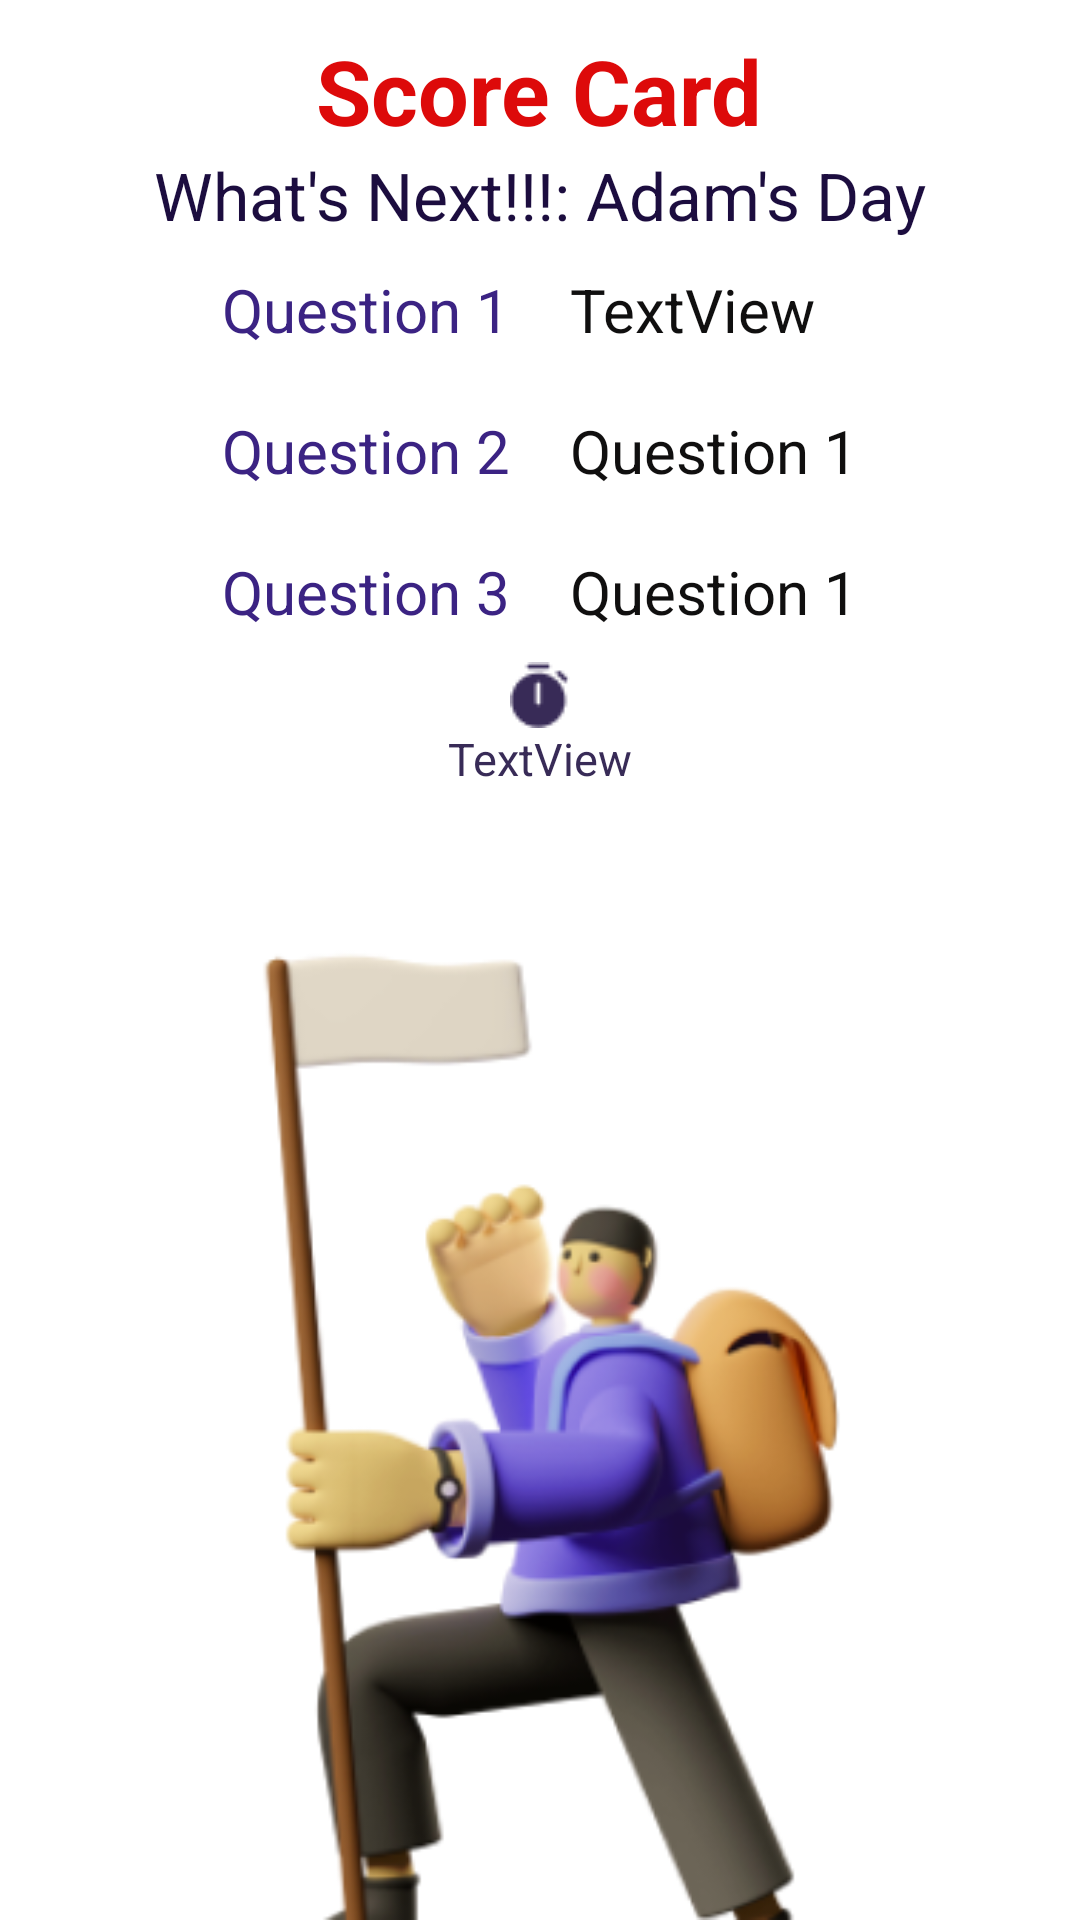

Icons on this 1080x1920 Android screen, each with the point to tap as (x,y):
time: (539,695)
